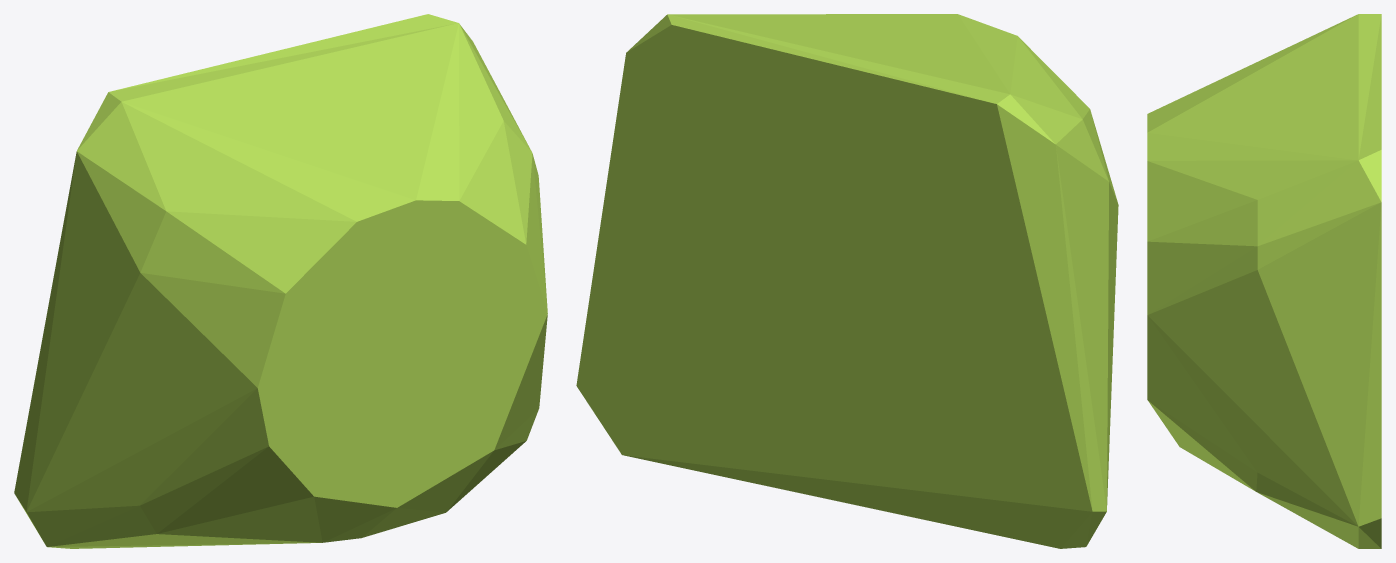
File: niryo_robot_base_coll_1.dae
The picture shows the model from 3 angles, left to right: view 1: azimuth 30°, elevation 25°; view 2: azimuth 150°, elevation 25°; view 3: azimuth 270°, elevation 25°; orthographic projection. The views are drawn at different scales.
Visible parts, largest first — view 1: Node_000001B04DB52530; view 2: Node_000001B04DB52530; view 3: Node_000001B04DB52530.
Part boxes in pixels (left/top/right/bottom): Node_000001B04DB52530: left=14, top=14, right=547, bottom=548; Node_000001B04DB52530: left=576, top=14, right=1118, bottom=548; Node_000001B04DB52530: left=1147, top=14, right=1381, bottom=548.
Size of the model in its own units: 0.223 by 0.182 by 0.102.
